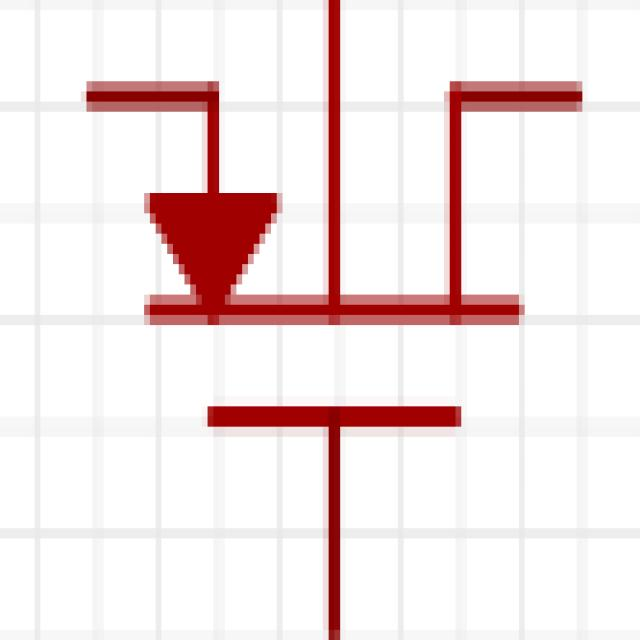pmos: (69, 4, 585, 640)
